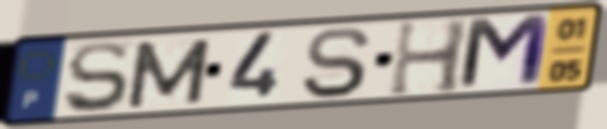4: (226, 28, 289, 106)
H: (385, 16, 474, 100)
M: (454, 11, 555, 94), (123, 36, 215, 111)
S: (298, 25, 375, 101), (61, 39, 132, 116)
